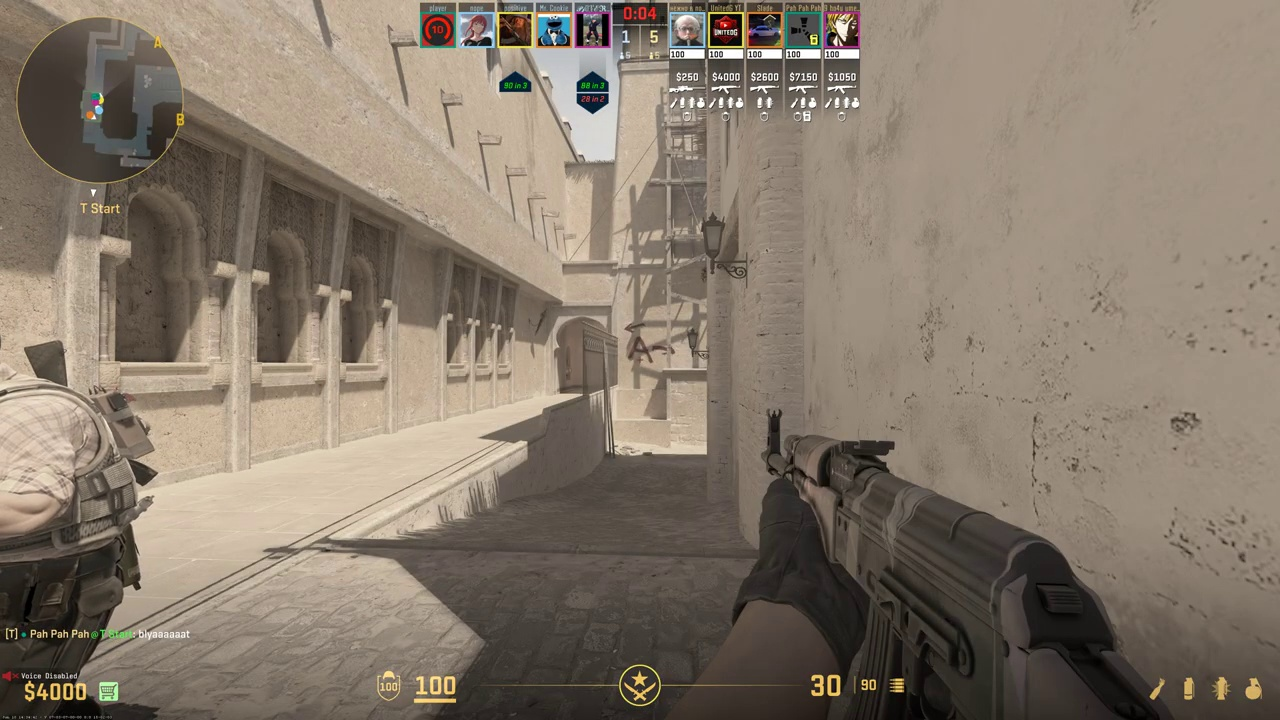Terrorist: (0, 342, 139, 720)
